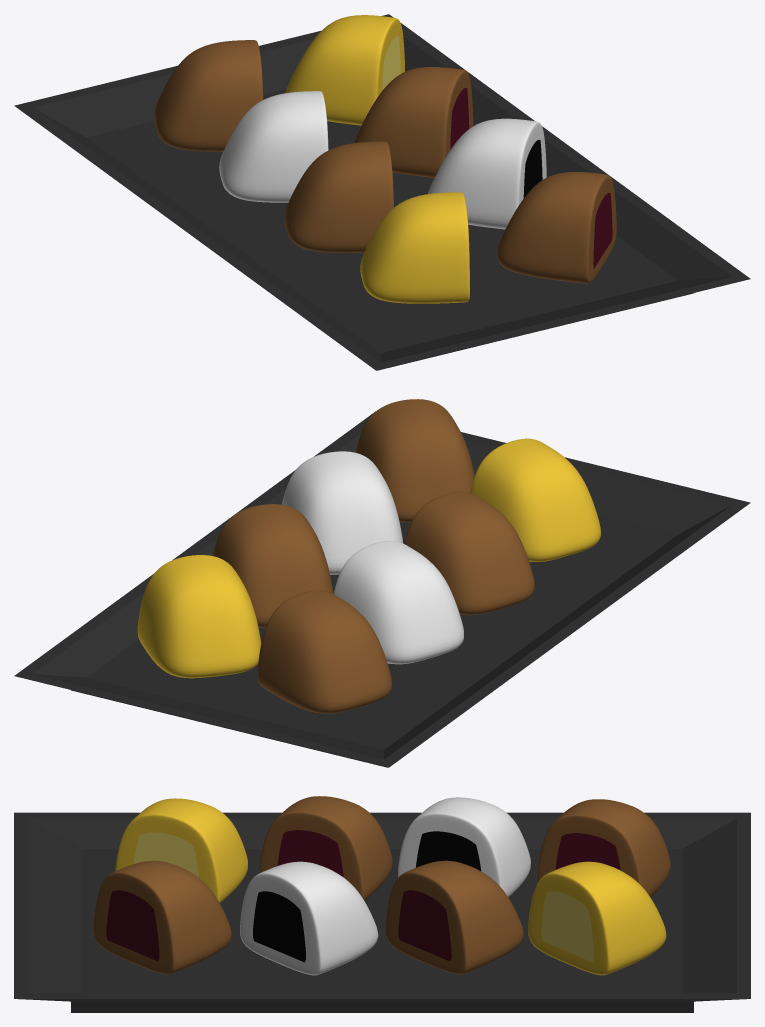
The model's file is tsukiokamanju.glb.
3 renders of one model, top to bottom at view 1: azimuth 30°, elevation 25°; view 2: azimuth 150°, elevation 25°; view 3: azimuth 270°, elevation 25°, orthographic.
Visible parts, largest first — view 1: 平面, Cube, Cube.004, Cube.005, Cube.007, Cube.006, Cube.003, Cube.001, Cube.002; view 2: 平面, Cube.007, Cube.002, Cube.006, Cube.005, Cube.004, Cube, Cube.001, Cube.003; view 3: 平面, Cube.003, Cube.002, Cube, Cube.001, Cube.005, Cube.004, Cube.006, Cube.007.
Part boxes in pixels (x1,y1,x2,y2): 平面: (14, 14, 750, 370); Cube: (496, 172, 616, 283); Cube.004: (360, 192, 469, 303); Cube.005: (284, 141, 393, 252); Cube.007: (154, 40, 263, 151); Cube.006: (219, 91, 328, 202); Cube.003: (354, 67, 473, 177); Cube.001: (428, 118, 546, 229); Cube.002: (285, 15, 404, 125); 平面: (14, 411, 750, 767); Cube.007: (257, 590, 391, 713); Cube.002: (137, 555, 261, 678); Cube.006: (333, 541, 463, 664); Cube.005: (404, 491, 534, 615); Cube.004: (470, 438, 600, 561); Cube: (356, 399, 474, 522); Cube.001: (282, 451, 402, 574); Cube.003: (213, 504, 333, 627); 平面: (14, 812, 750, 1012); Cube.003: (385, 860, 523, 974); Cube.002: (528, 861, 666, 975); Cube: (93, 860, 231, 974); Cube.001: (240, 861, 378, 975); Cube.005: (259, 796, 392, 900); Cube.004: (115, 798, 247, 902); Cube.006: (398, 797, 530, 897); Cube.007: (537, 799, 670, 896).
Size of the model in its own units: 3.55 by 0.9495 by 5.93.
